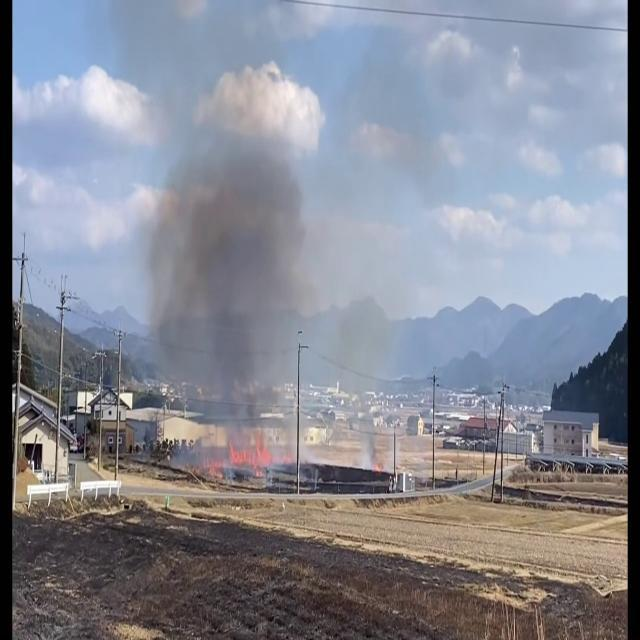Smoke: (137, 56, 406, 466)
